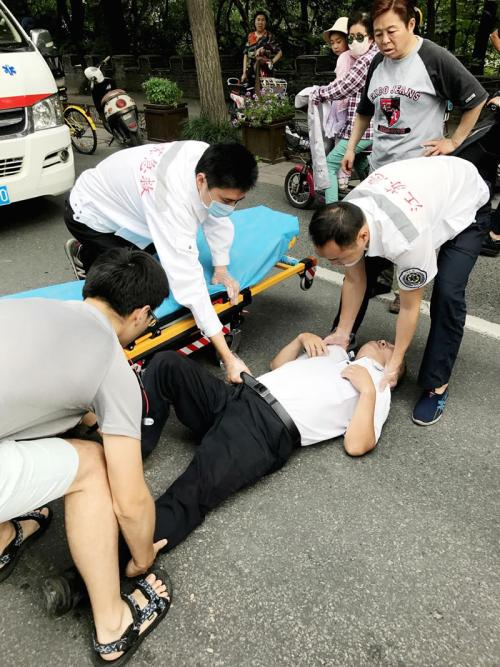fall: (95, 307, 411, 626)
